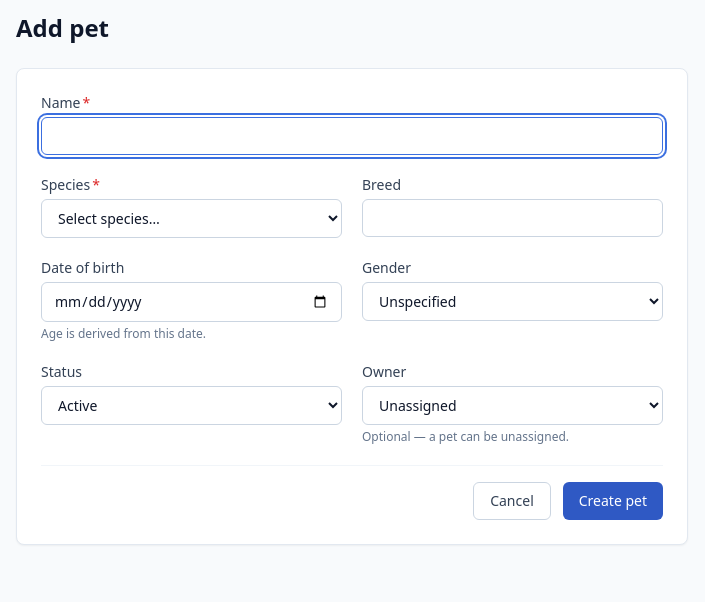
Test: PetForm (create) › shows client-side validation errors on empty submit
What coordinates should you click on to do the following:
click the button "Create pet"
I would click on:
 (613, 501)
Its box is 563,482 -> 663,520.
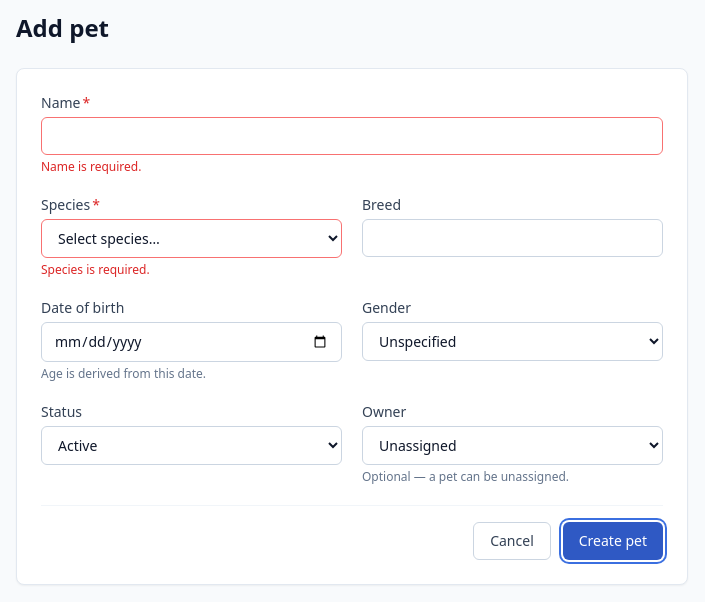
Expected: the text "Name is required." is shown, 41,158 -> 141,175
Expected: the text "Species is required." is shown, 41,261 -> 150,278
